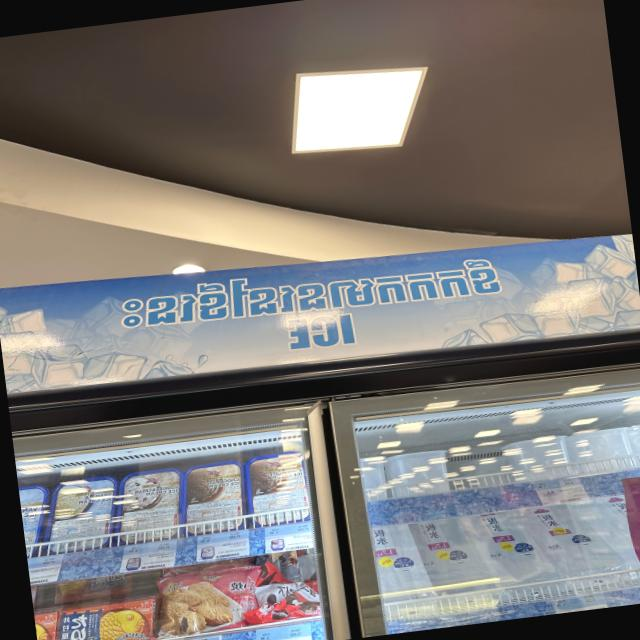Yolov11_80vkh: (117, 252, 512, 336)
